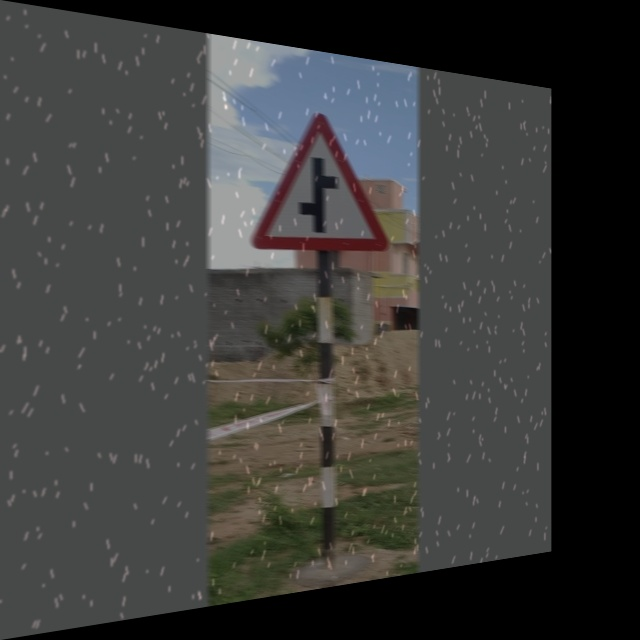Staggered_Intersection: (251, 96, 392, 260)
